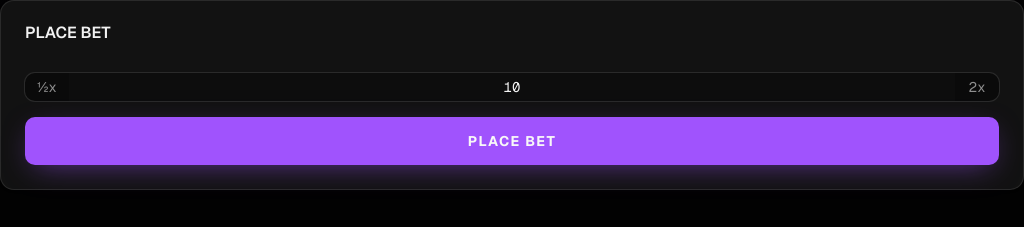
Test: BetForm › disables submit and shows an inline error for an invalid bet amount
Replace the text in the field with placeholder "Bet Amount" with "-5": x=512, y=87 [69,73,955,101]
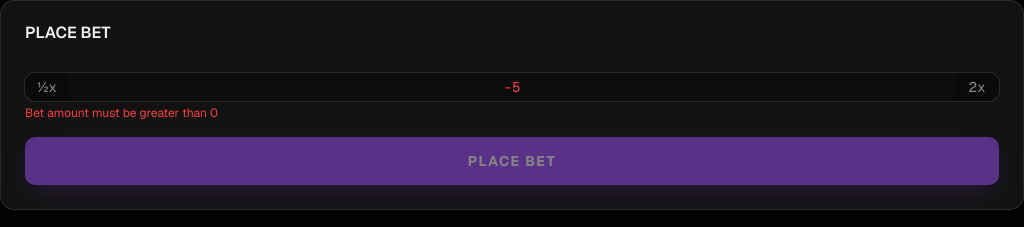
Now the button "PLACE BET" is disabled, box [25,137,999,185]
Now the text "Bet amount must be greater than 0" is shown, box [25,105,218,121]
